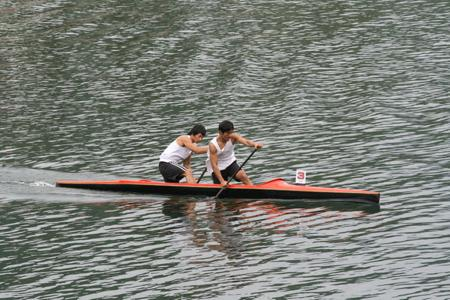person: (207, 122, 264, 186)
